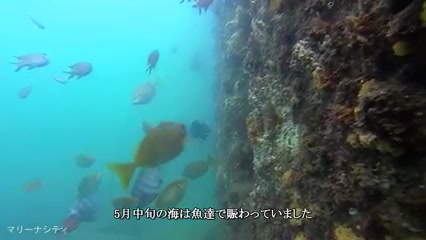mezina: (4, 48, 54, 73), (62, 59, 97, 82)
smallfish: (102, 121, 192, 186)
